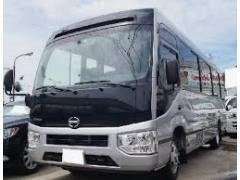bus: (23, 5, 224, 180)
